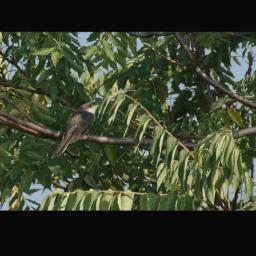Cuckoo: (47, 101, 103, 160)
